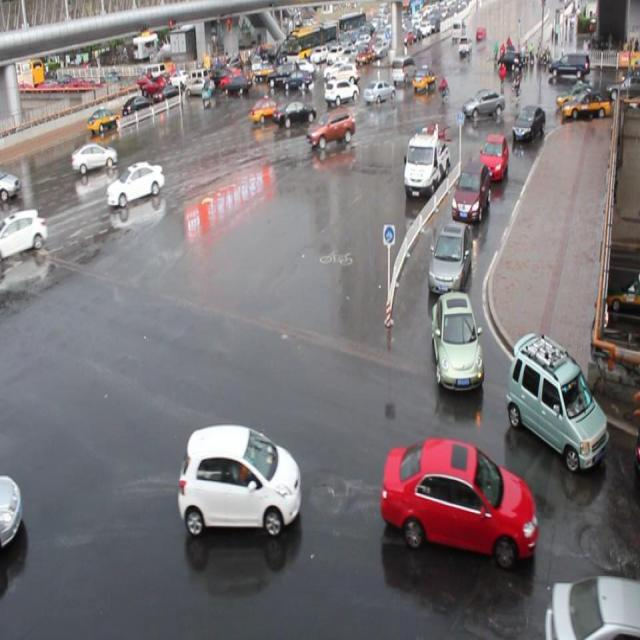car: (387, 427, 532, 583), (153, 430, 296, 560), (516, 323, 611, 490), (419, 272, 504, 406), (403, 122, 453, 203), (299, 105, 365, 166), (100, 170, 177, 213), (74, 140, 118, 180), (364, 64, 400, 111), (324, 59, 355, 107), (85, 95, 122, 135)
